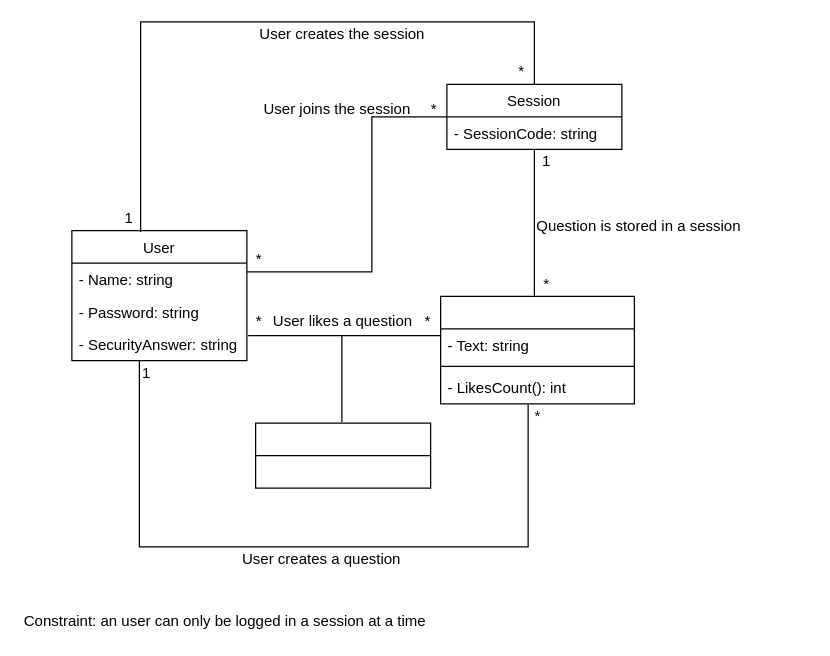
Image size: 830x656. Some labels were removed from this diagram. Here are the shapes that lost their labels. From the top down, the box of each, then its label:
(439, 295, 634, 404): Question
(254, 422, 431, 488): - Liked: bool
